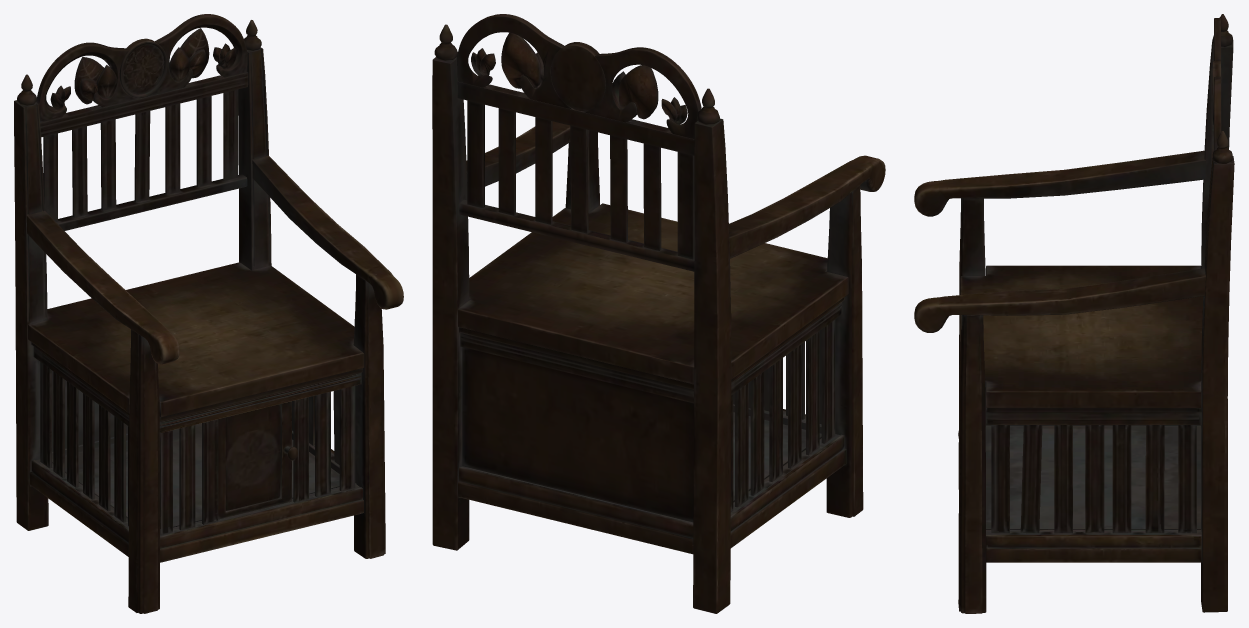
Rendered from gallinera_chair.glb.
3 views of the same model, side by side, from view 1: azimuth 30°, elevation 25°; view 2: azimuth 150°, elevation 25°; view 3: azimuth 270°, elevation 25° (orthographic). The views are drawn at different scales.
Visible parts, largest first — view 1: gallinera_chair; view 2: gallinera_chair; view 3: gallinera_chair.
Boxes of the visible parts, x1,y1,x2,y2 form: gallinera_chair: (14, 14, 403, 613); gallinera_chair: (432, 14, 885, 613); gallinera_chair: (914, 14, 1234, 613).
Size of the model in its own units: 0.5808 by 1.03 by 0.6039.
1 material, 1 textured.
